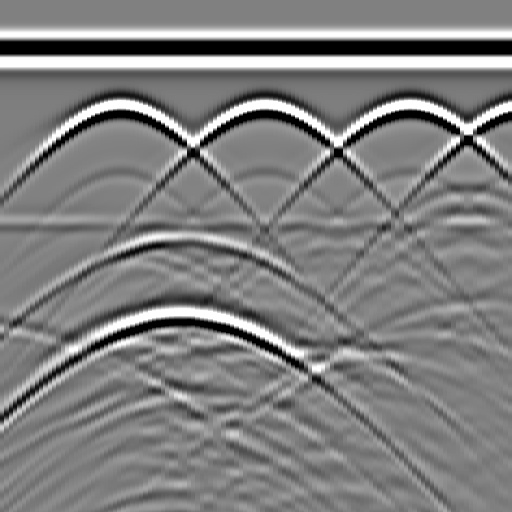grout_surface: (1, 210, 512, 240)
rebar: (98, 88, 138, 128), (243, 88, 283, 128), (387, 88, 427, 128), (502, 88, 512, 128)
rock_surface: (1, 302, 511, 401)
water_void: (149, 214, 209, 254)
